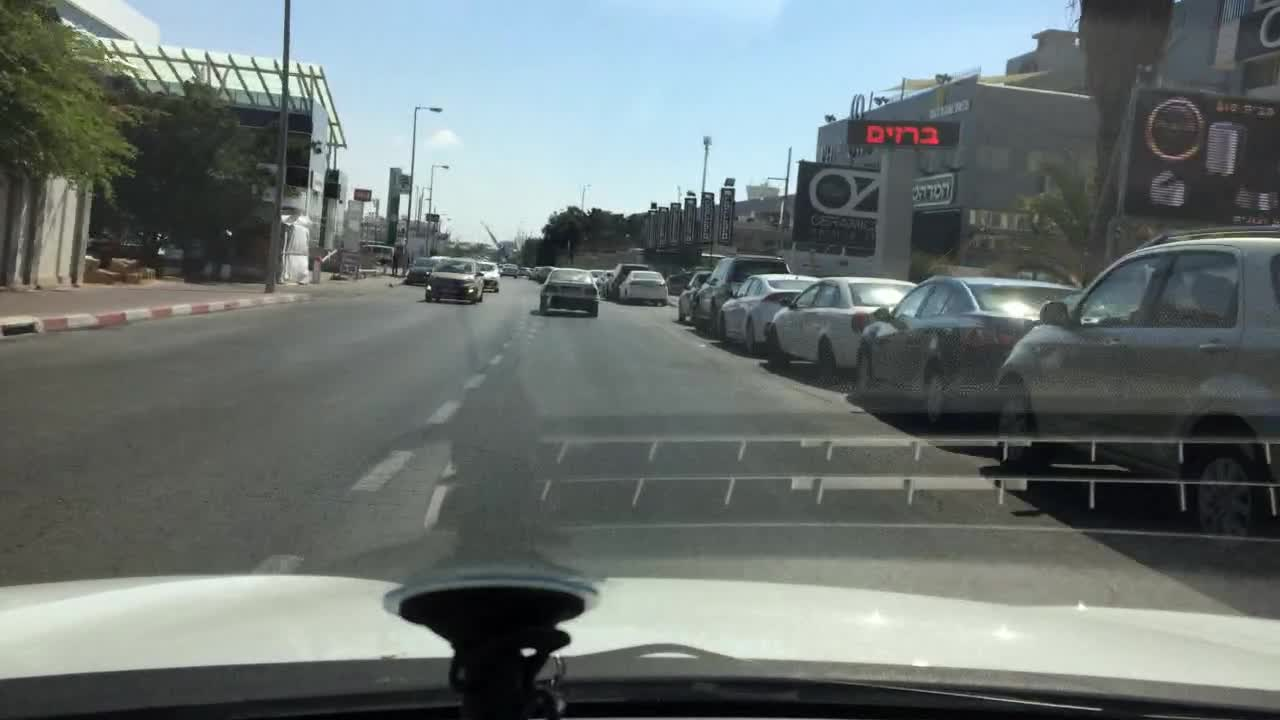bus: (354, 244, 393, 264), (356, 237, 388, 246)
car: (992, 224, 1279, 550), (850, 269, 1088, 423), (769, 275, 921, 372), (691, 253, 793, 335), (713, 273, 796, 350), (536, 266, 600, 320), (423, 253, 484, 305), (676, 268, 717, 323), (619, 269, 669, 305), (610, 261, 651, 298), (403, 256, 433, 285), (477, 259, 501, 293), (585, 268, 605, 296), (499, 259, 521, 280), (604, 269, 617, 298), (533, 264, 551, 283), (516, 263, 533, 278)
person: (389, 245, 398, 280)
traffic sign: (352, 188, 371, 200), (425, 214, 440, 224)
